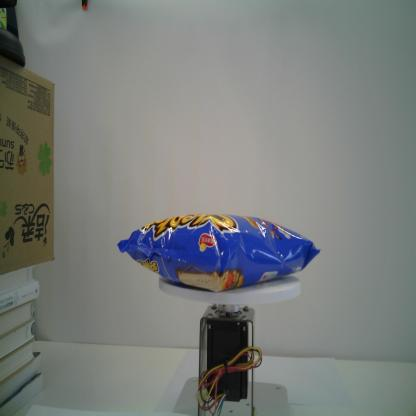Puffed Food: (117, 212, 321, 292)
